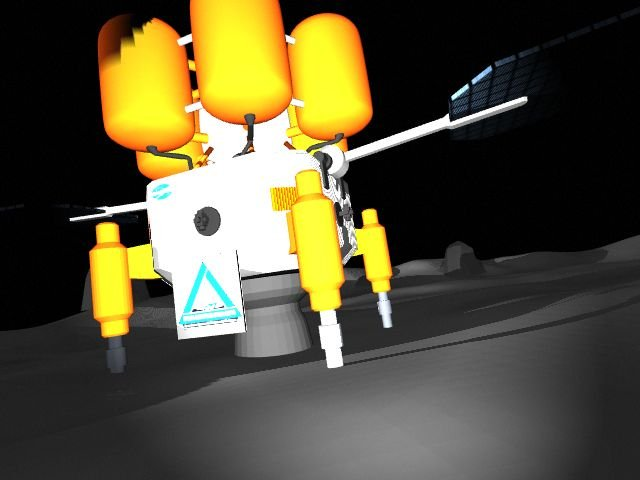basemarker: (177, 260, 241, 331)
